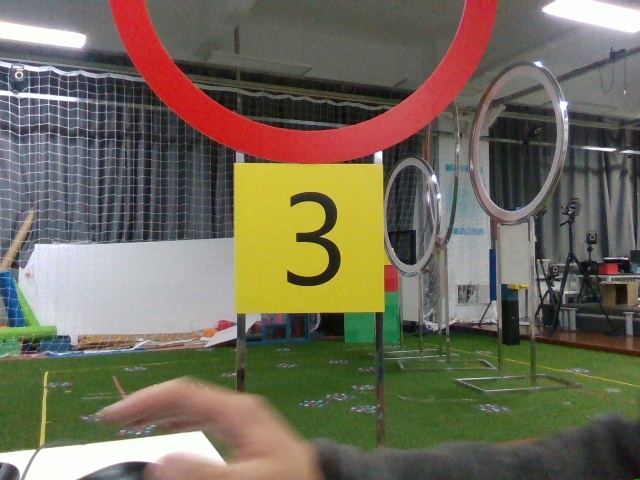target: (234, 167, 386, 312)
